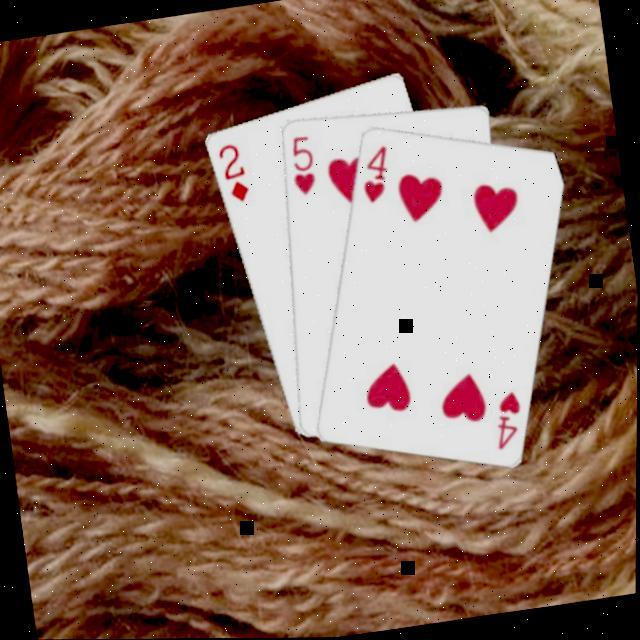2D: (211, 137, 252, 207)
4H: (353, 141, 395, 207), (486, 386, 528, 452)
5H: (282, 130, 319, 199)
